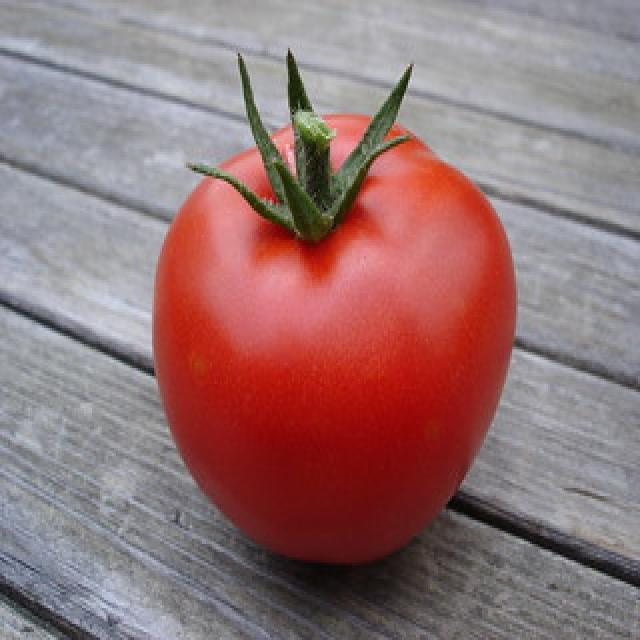kirmizi: (120, 36, 546, 610)
